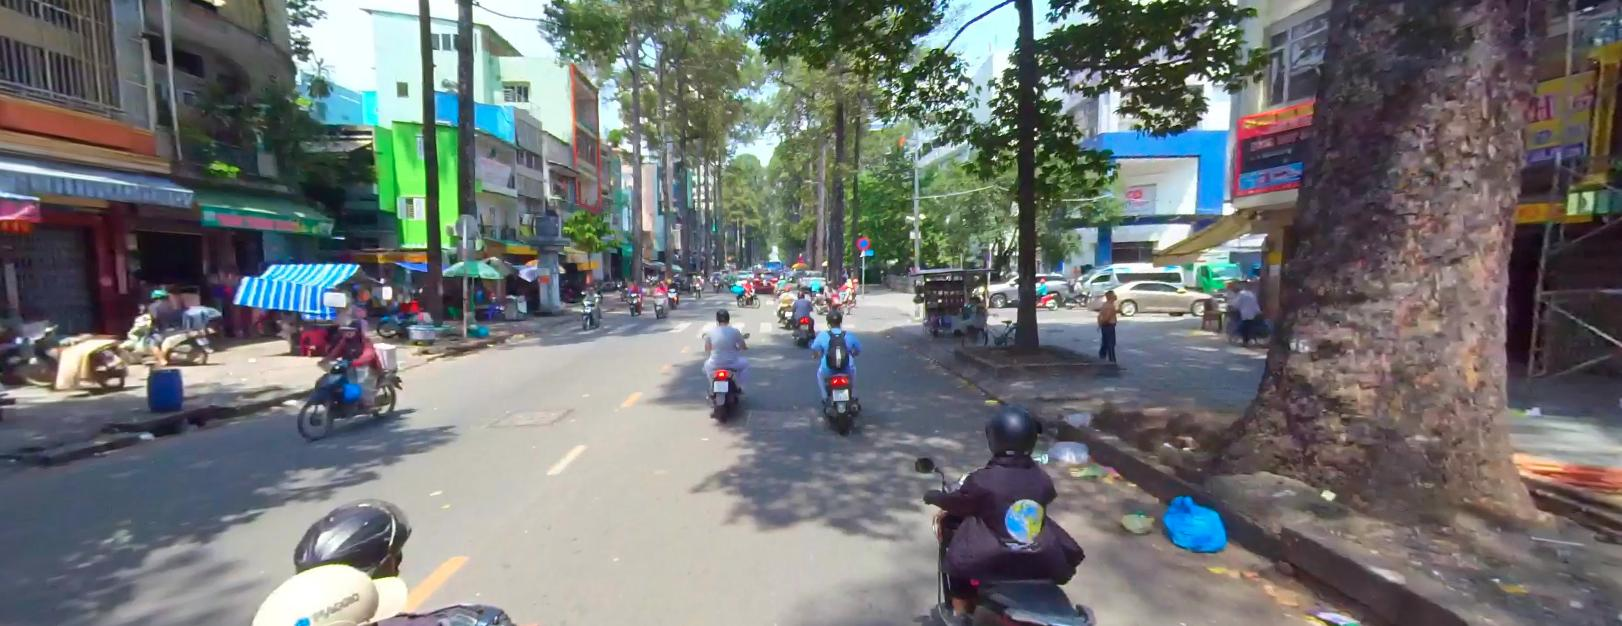Cam dung va do: (857, 236, 870, 248)
